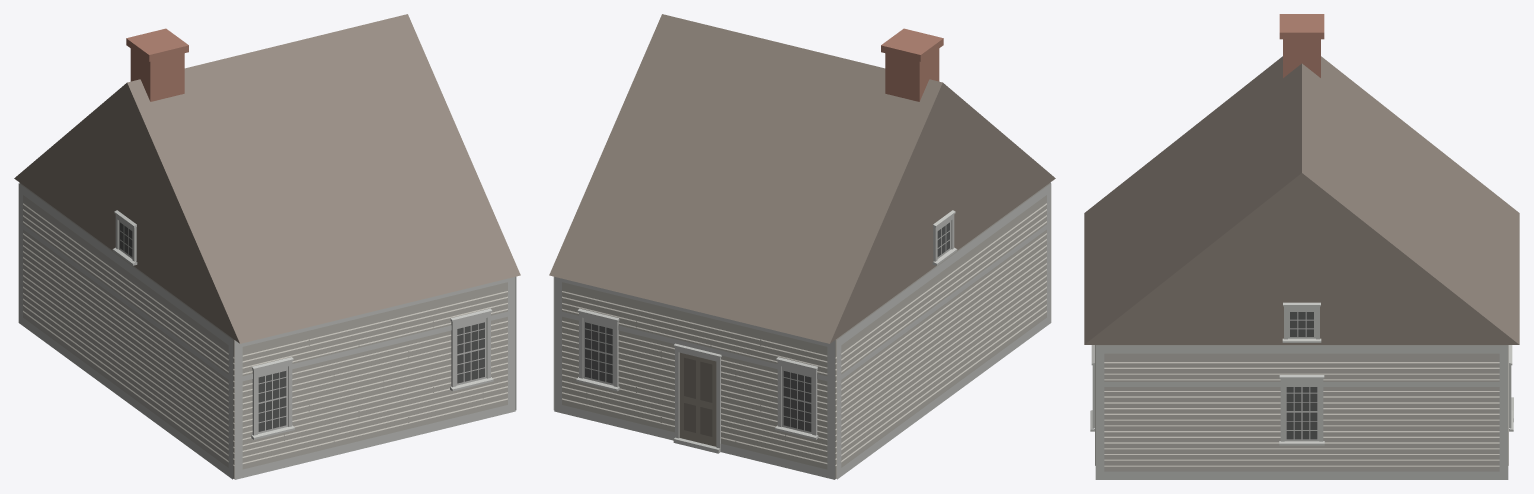
The model's file is recon_1835_blk_randolph_dearborn_d6_10__inferred_1835.glb.
3 renders of one model, left to right at view 1: azimuth 30°, elevation 25°; view 2: azimuth 150°, elevation 25°; view 3: azimuth 270°, elevation 25°, orthographic. The views are drawn at different scales.
Parts seen in each view (by area): view 1: recon_1835_blk_randolph_dearborn_d6_10__inferred_1835; view 2: recon_1835_blk_randolph_dearborn_d6_10__inferred_1835; view 3: recon_1835_blk_randolph_dearborn_d6_10__inferred_1835.
Boxes of the visible parts, x1,y1,x2,y2 form: recon_1835_blk_randolph_dearborn_d6_10__inferred_1835: (14, 14, 520, 479); recon_1835_blk_randolph_dearborn_d6_10__inferred_1835: (549, 14, 1055, 479); recon_1835_blk_randolph_dearborn_d6_10__inferred_1835: (1084, 14, 1519, 479).
Bounding box in the file's own units: 7.12 × 8.25 × 9.61.
